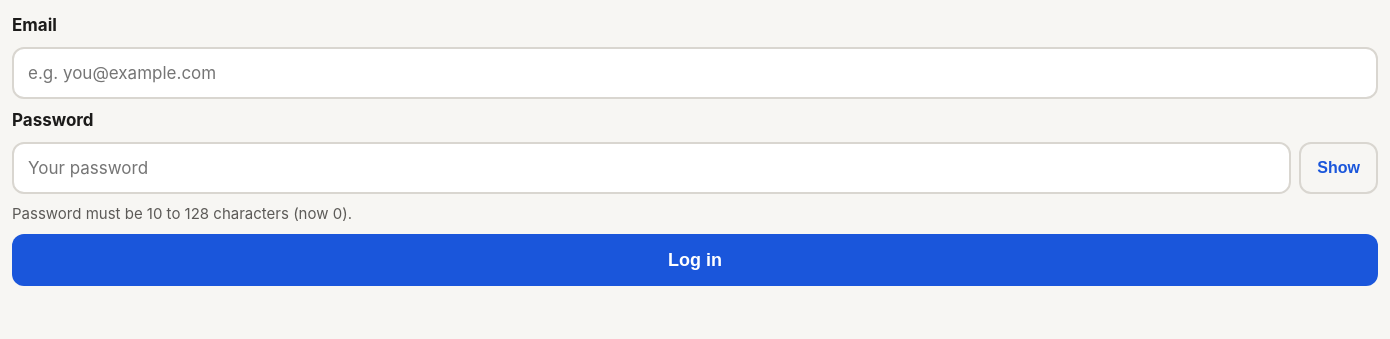
Test case: AuthForm login › shows only the generic error on 401
The width and height of the screenshot is (1390, 339).
Type "a@b.com" into the field labelled "Email".
click(695, 73); type("a@b.com")  # box [12,47,1378,99]
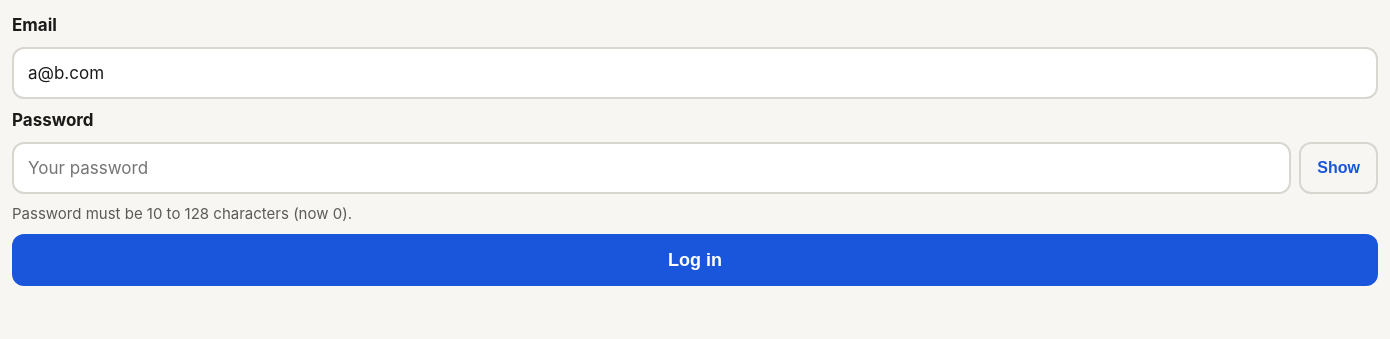
Type "wrongpassword1" into the password field labelled "Password".
click(652, 168); type("wrongpassword1")  # box [12,142,1291,194]
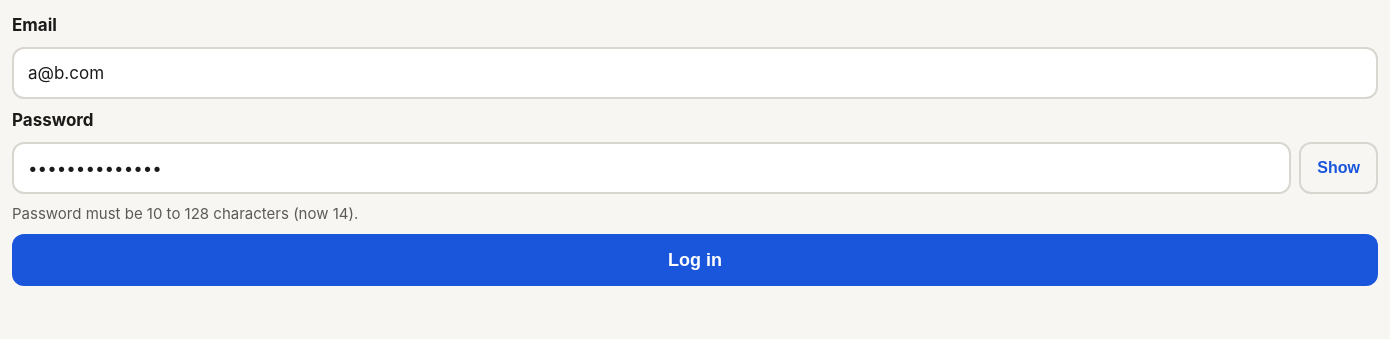
Click the button "Log in".
click(695, 260)  # box [12,234,1378,286]
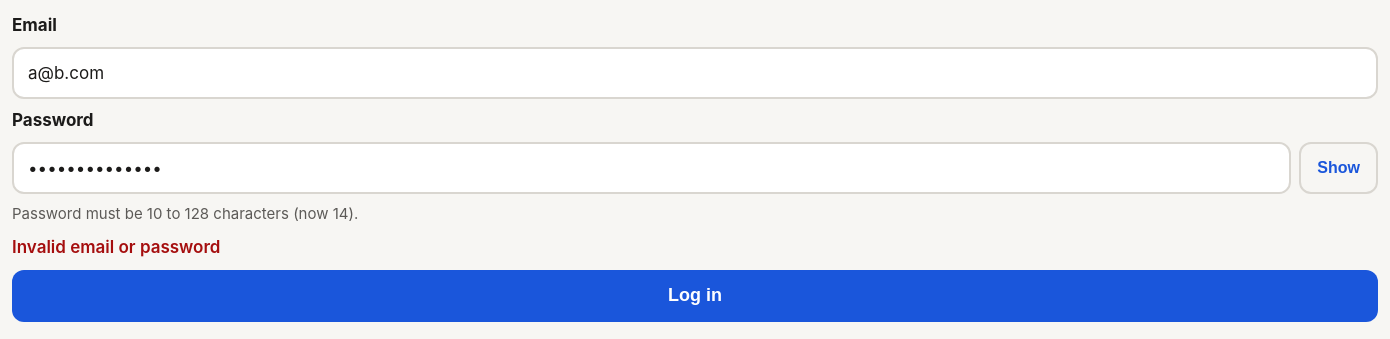
Expected: the text "Invalid email or password" is shown, [12,237,220,257]
